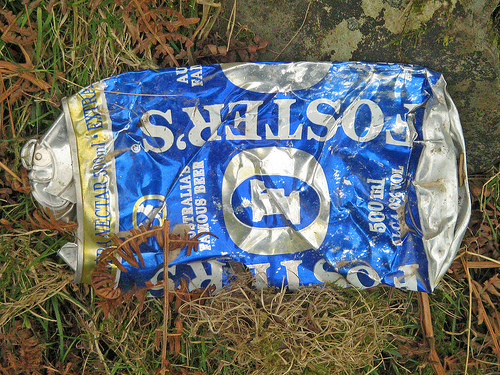litter: (20, 61, 472, 295)
